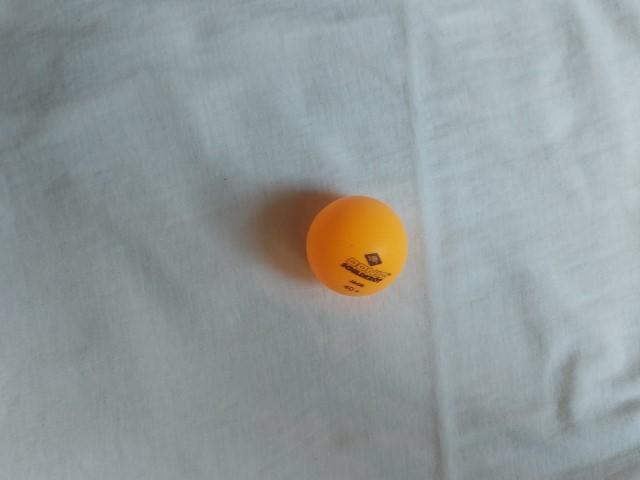oball: (297, 190, 419, 307)
